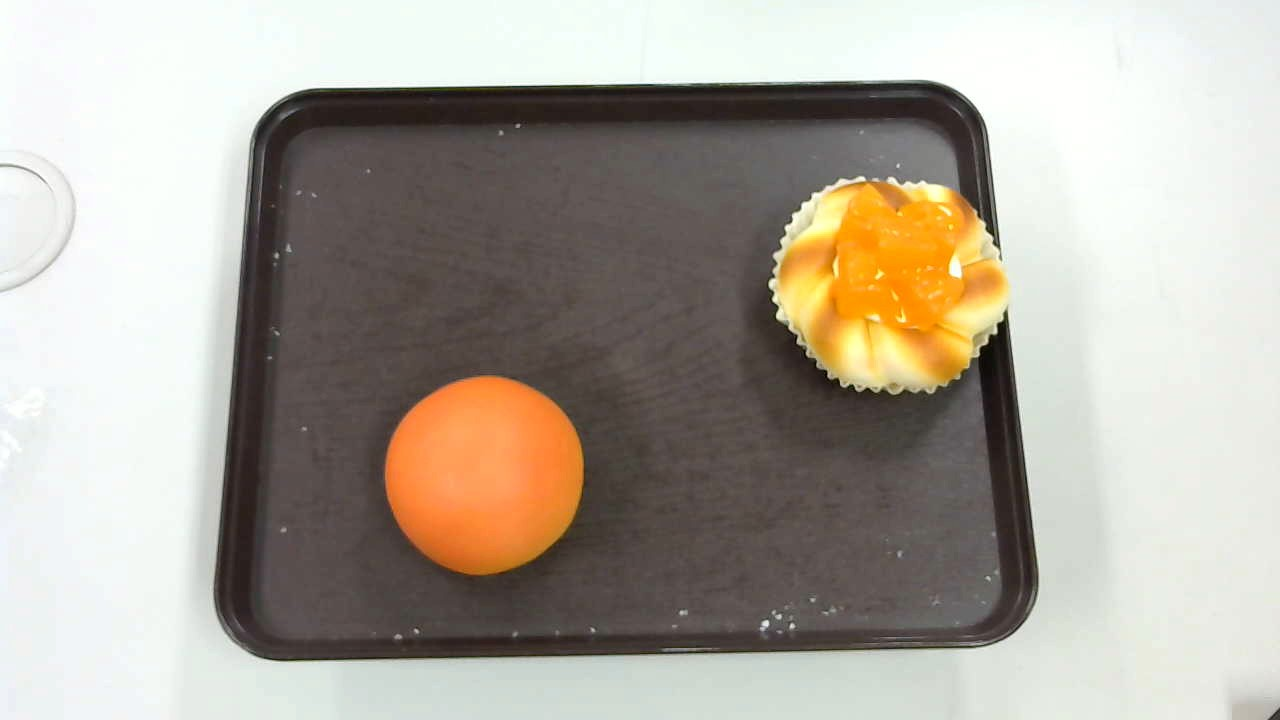bun: (384, 375, 584, 577)
mango tart: (768, 175, 1009, 394)
